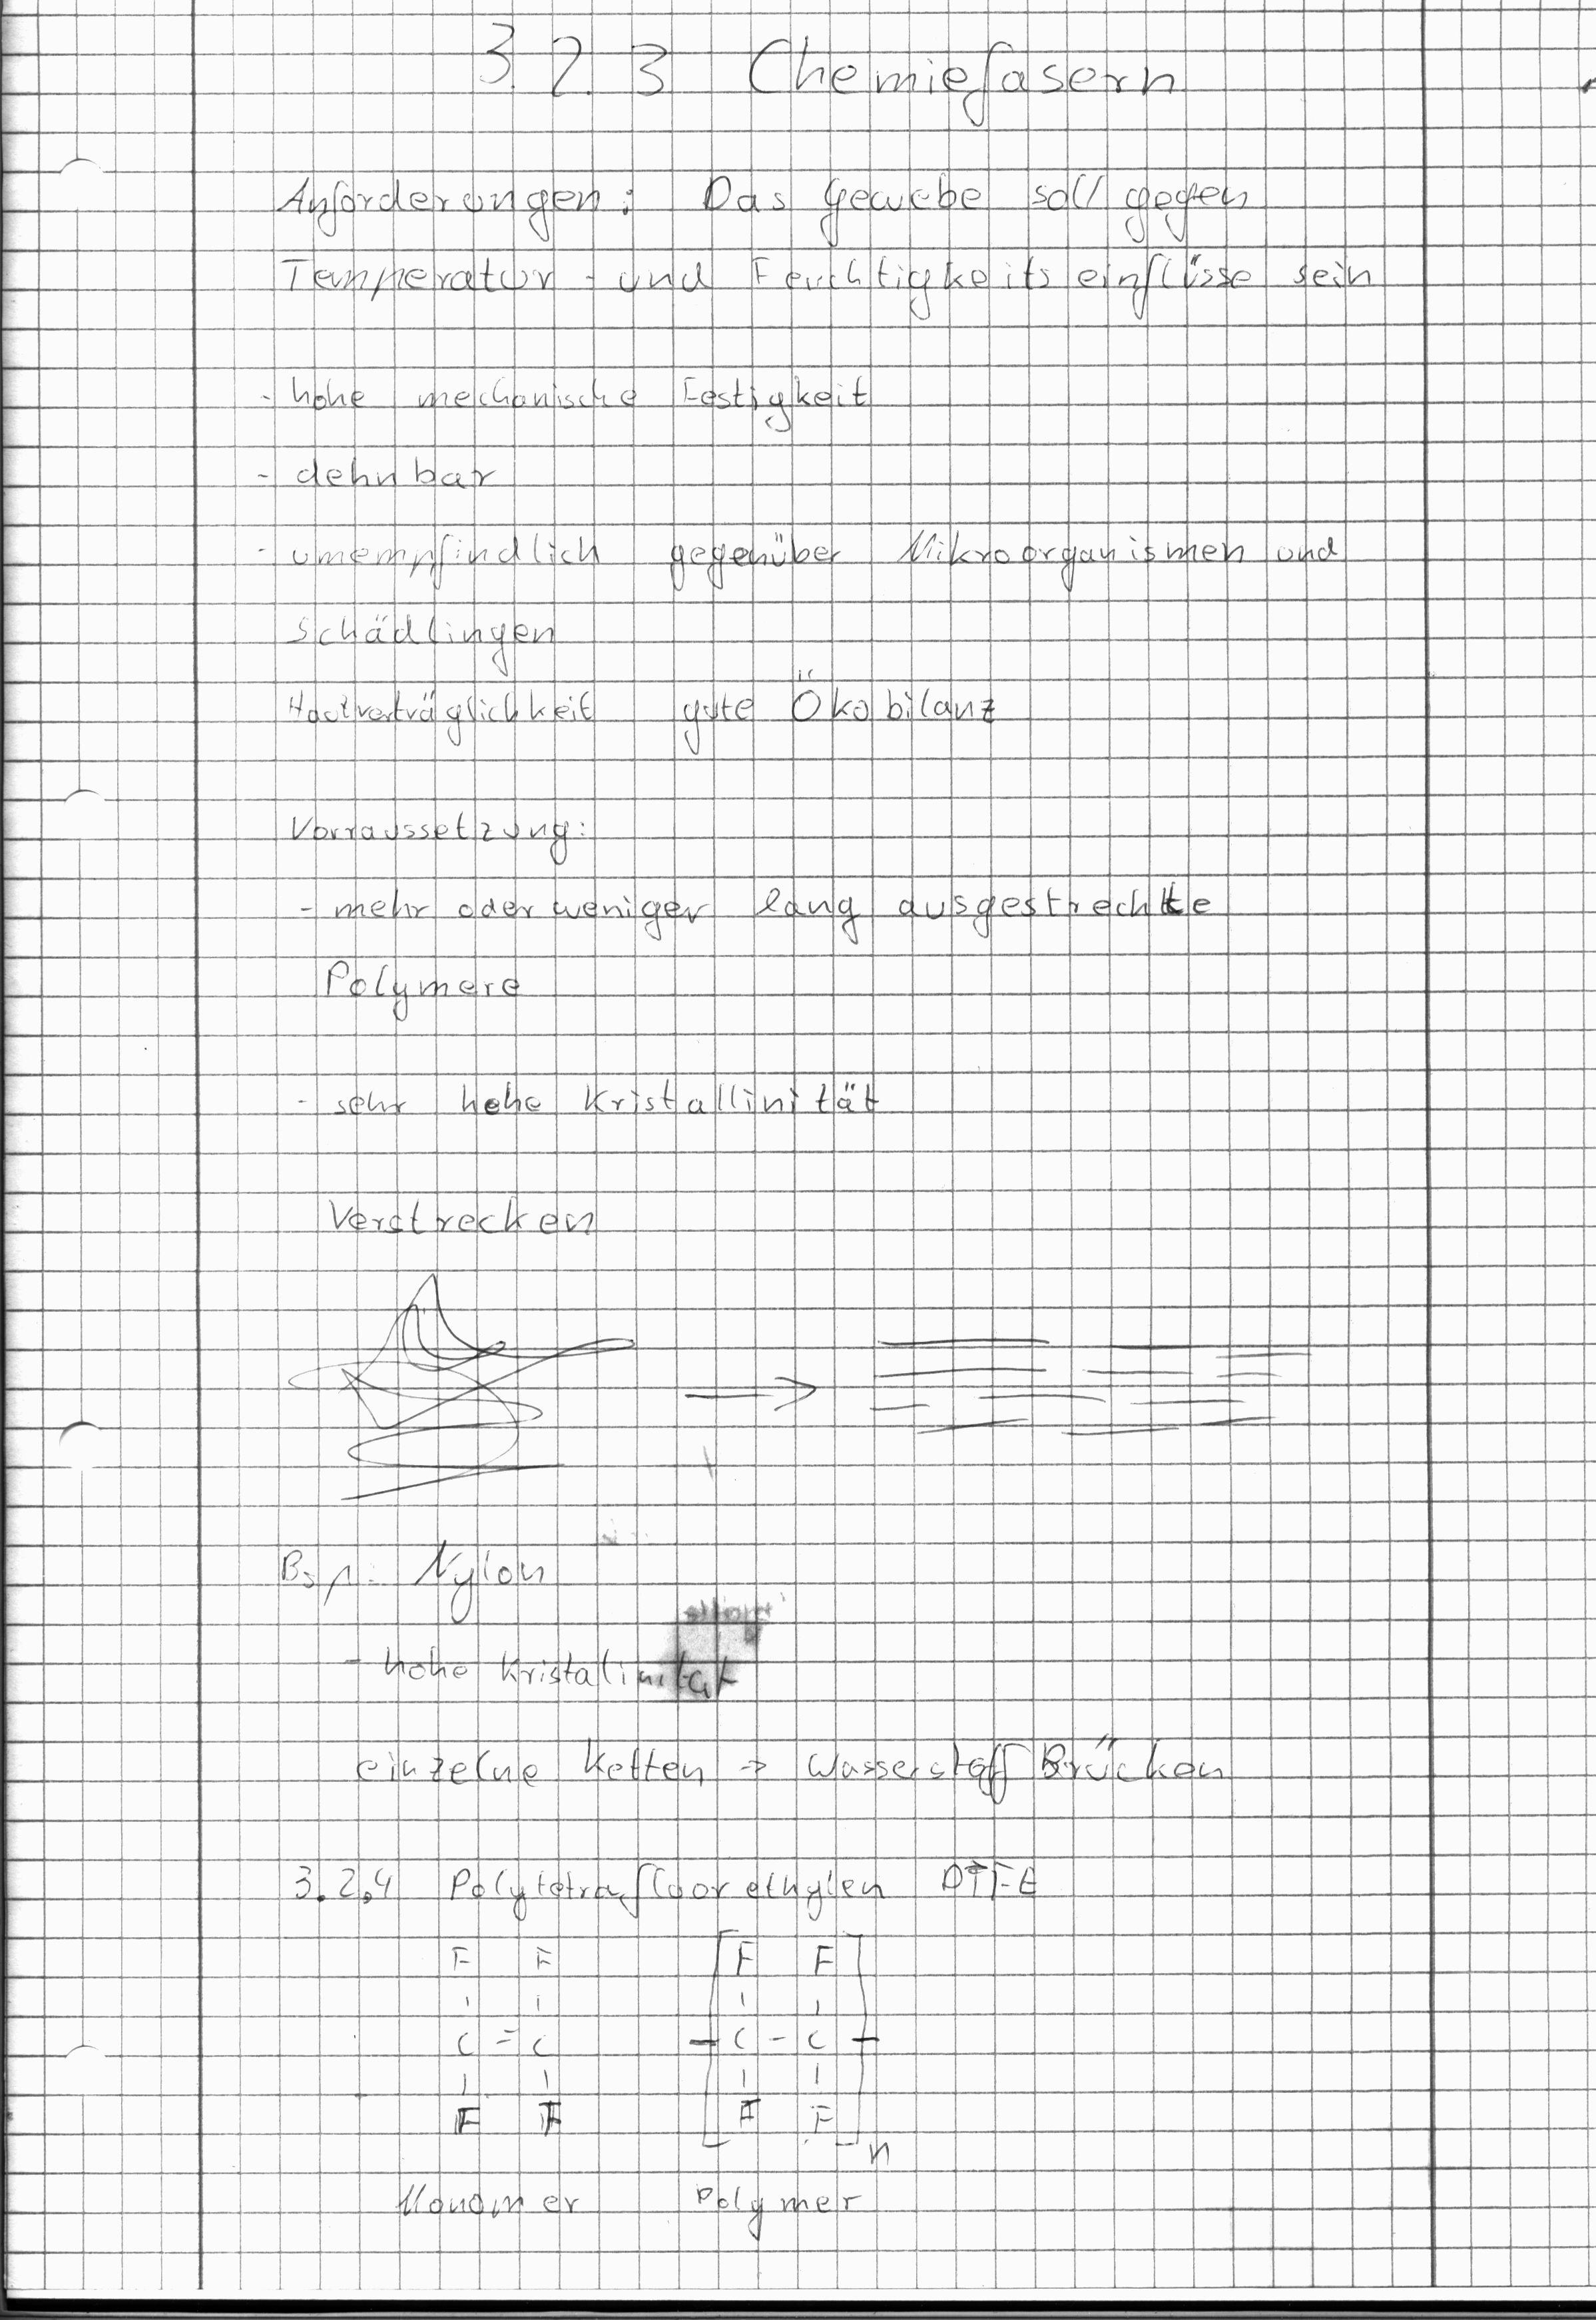word: (263, 159, 1388, 334), (290, 868, 1218, 1028), (271, 607, 1011, 772), (244, 517, 1347, 609), (242, 360, 878, 501), (266, 1055, 906, 1148), (296, 1171, 620, 1268), (276, 792, 595, 870)
